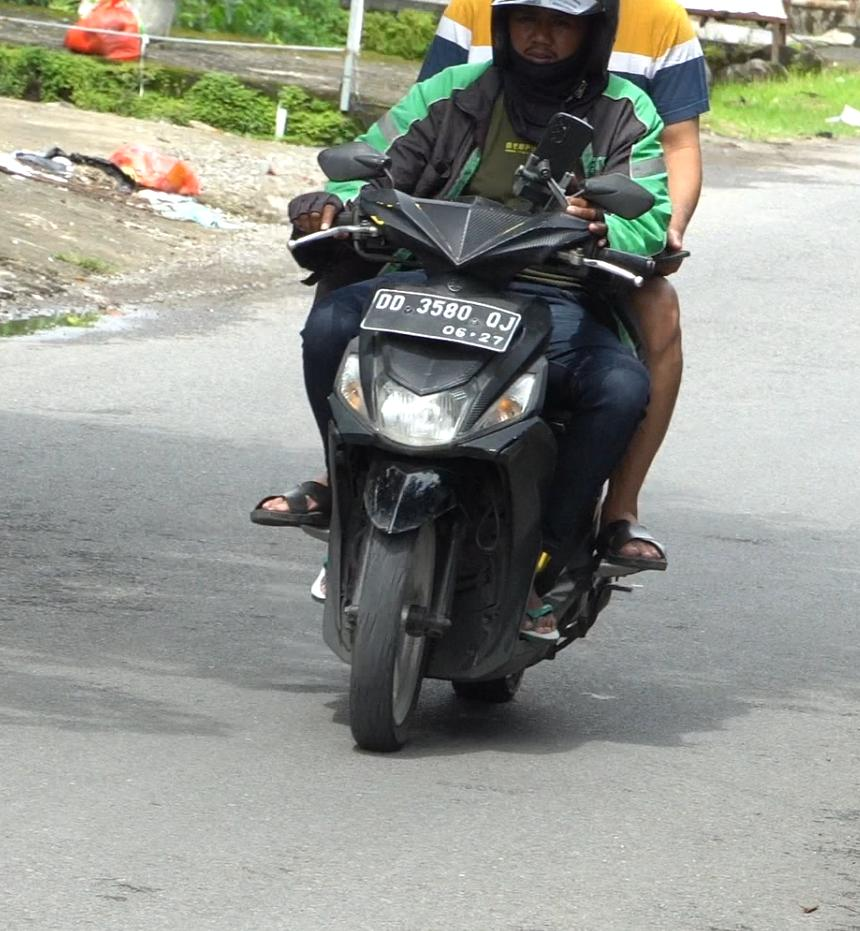number-plate: (372, 282, 518, 349)
